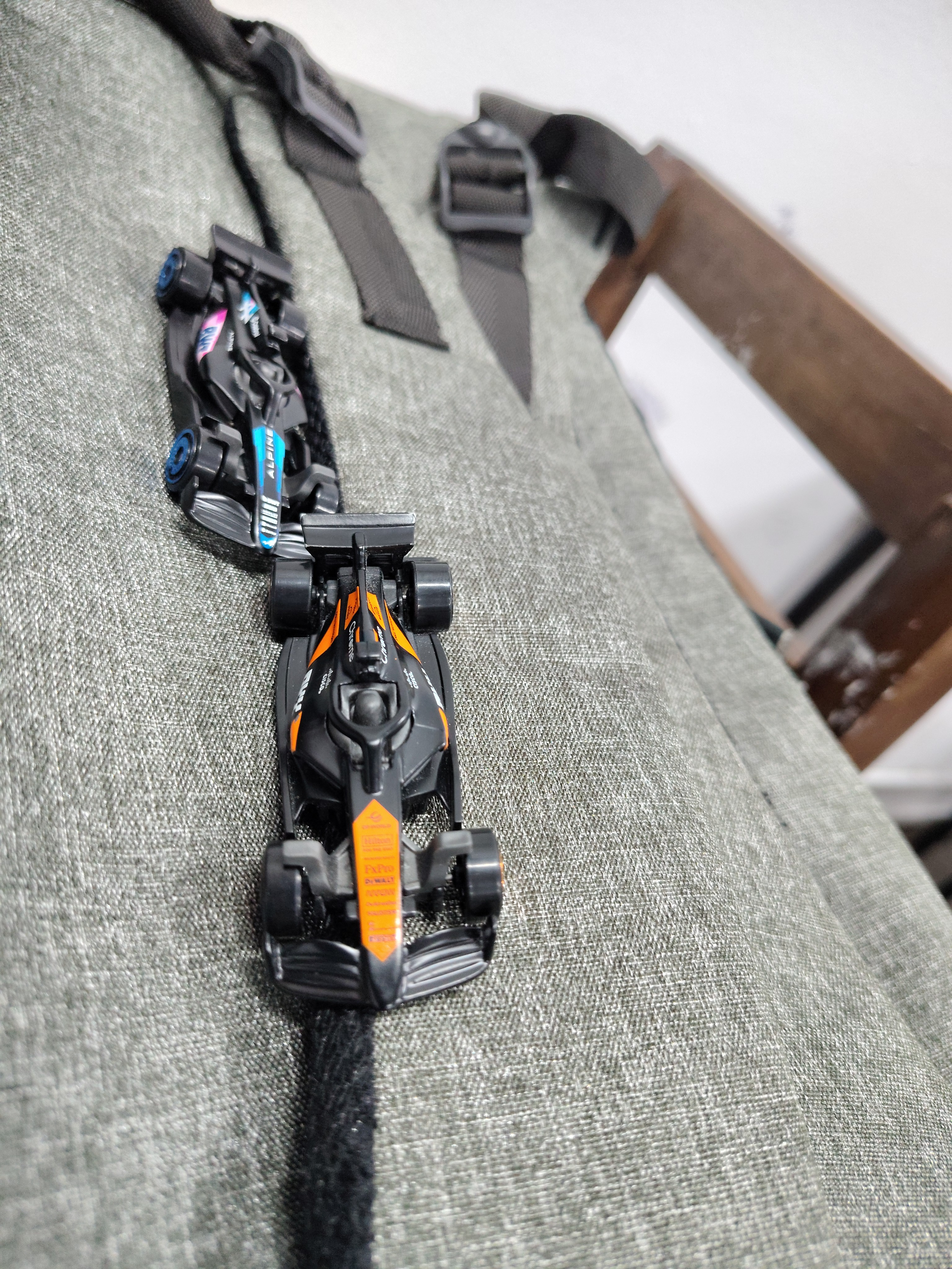Alpine A524: (146, 198, 356, 558)
McLaren MCL40: (246, 469, 530, 1047)
